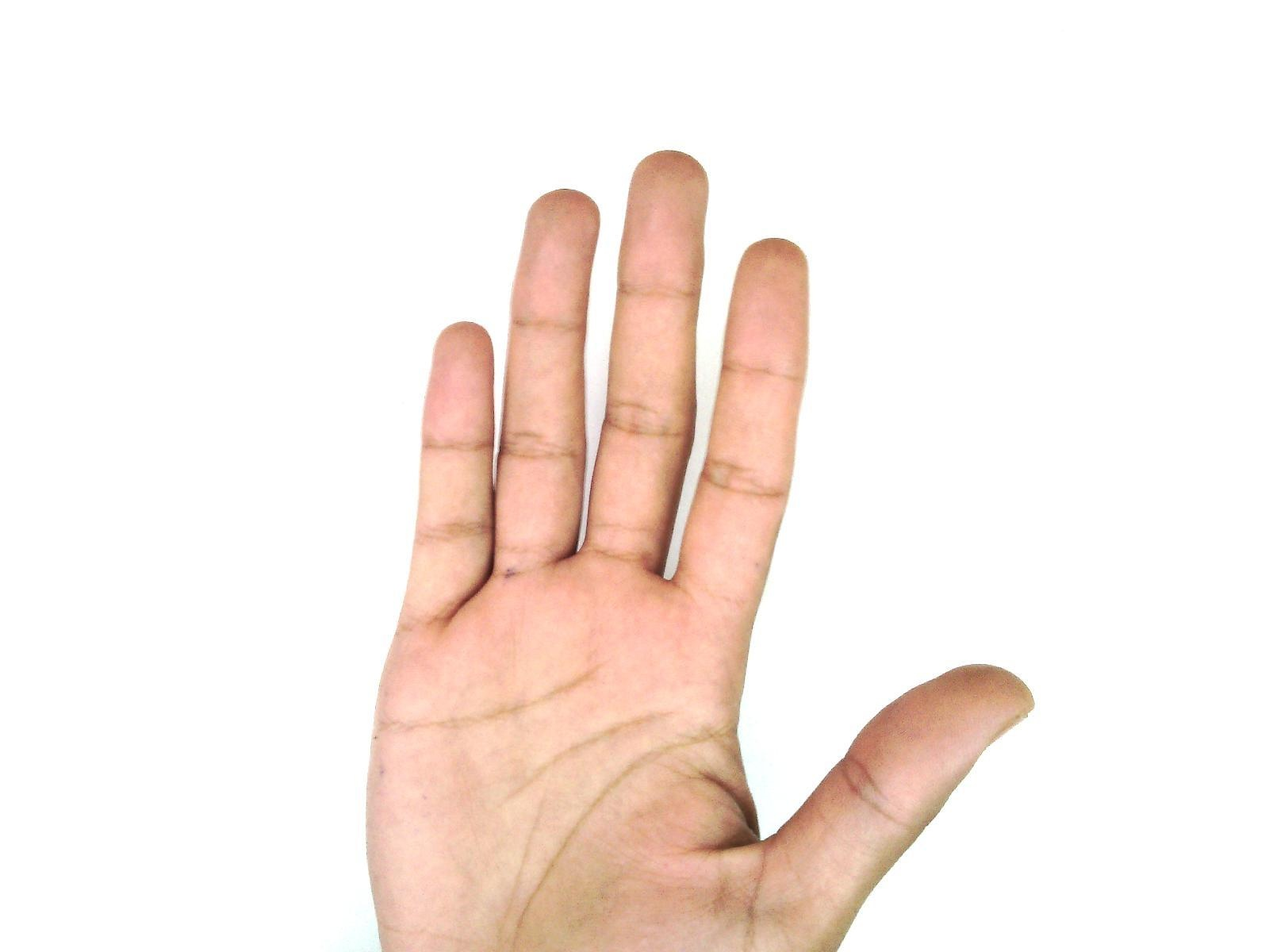open_palm: (360, 148, 1037, 951)
